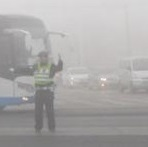person: (9, 49, 65, 134)
